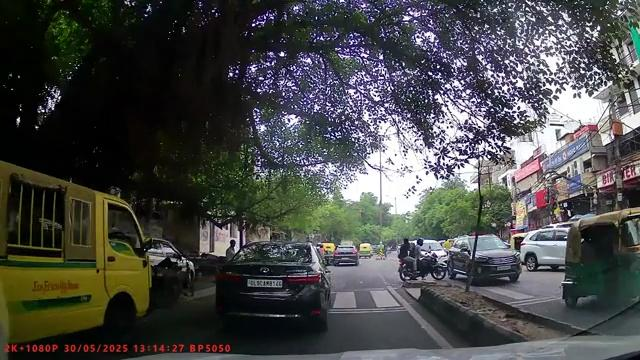passenger_without_helmet: (397, 237, 445, 284)
